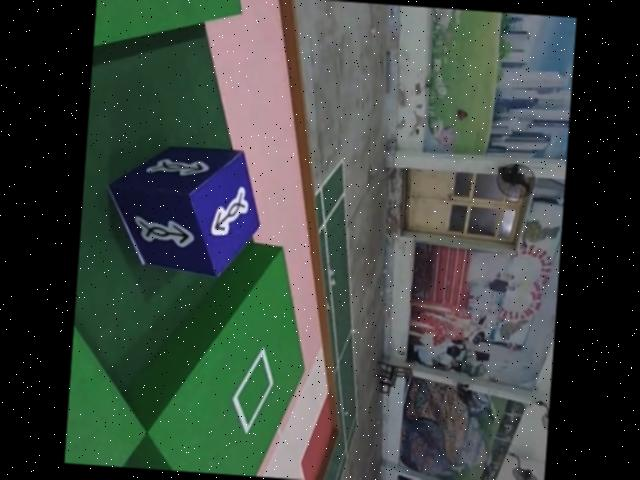R2 Real Blue: (100, 139, 266, 278)
